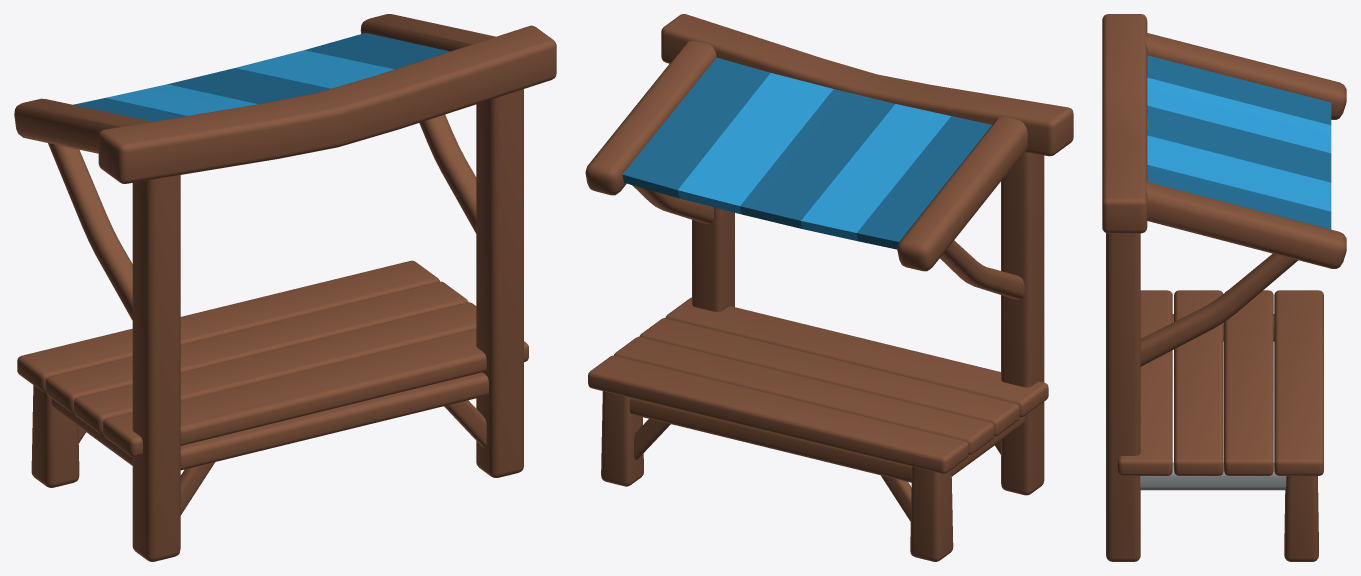
Rendered from prop1.fbx.
The picture shows the model from 3 angles, left to right: view 1: azimuth 30°, elevation 25°; view 2: azimuth 150°, elevation 25°; view 3: azimuth 270°, elevation 25°; orthographic projection. The views are drawn at different scales.
Parts seen in each view (by area): view 1: Cube.020; view 2: Cube.020; view 3: Cube.020.
Boxes of the visible parts, x1=… form: Cube.020: x1=14, y1=14, x2=556, y2=561; Cube.020: x1=585, y1=14, x2=1073, y2=561; Cube.020: x1=1102, y1=14, x2=1346, y2=561.
Size of the model in its own units: 4.58 by 2.51 by 4.27.
